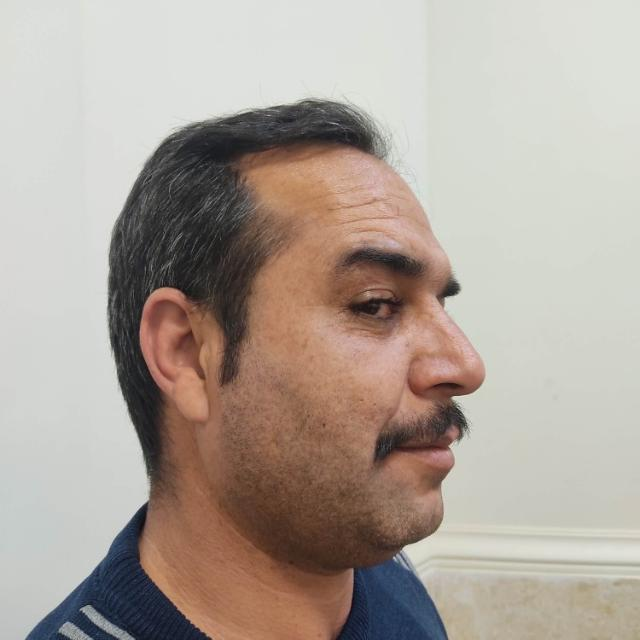forehead: (342, 210, 400, 240), (332, 184, 378, 212)
